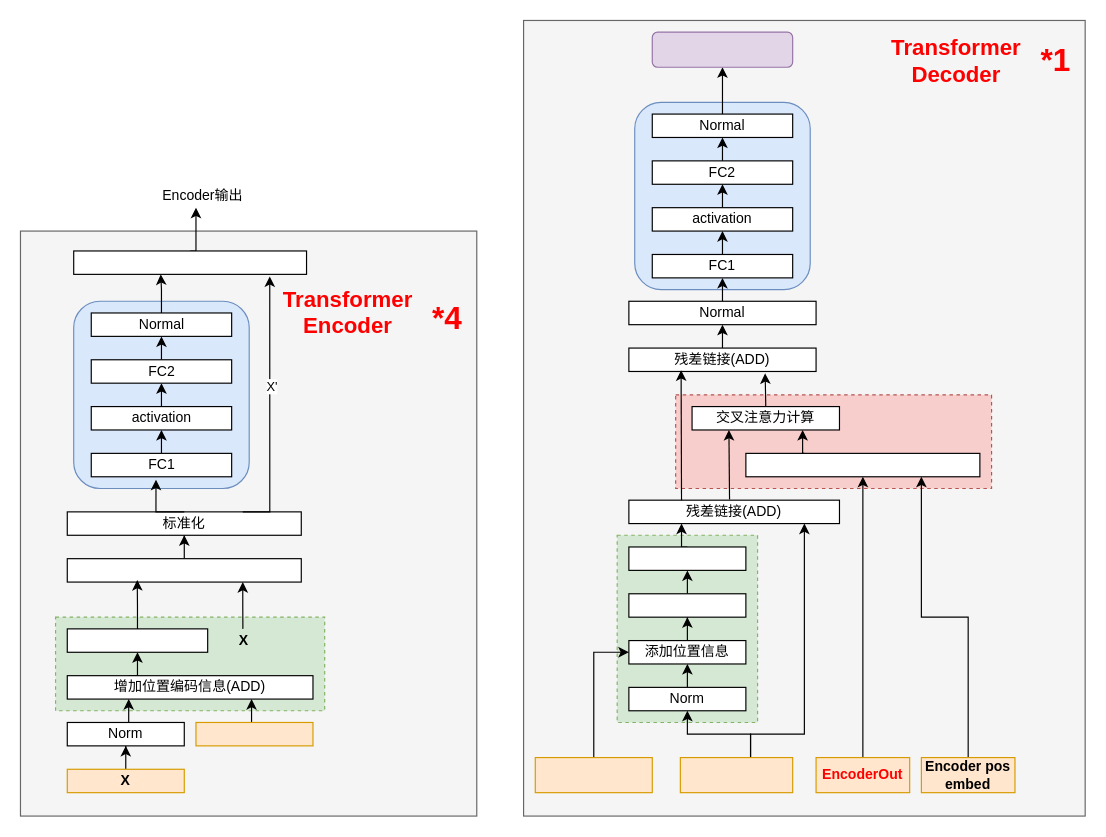
Some shapes in this 1106 by 837 pixel diagram are drawn without their labels. Here are the shapes that lost their labels. From the top down, the centre of each, then its label:
At [722,49]: "目标位置关节".
At [190,262]: "残差链接+Normal".
At [862,464]: "添加位置信息(encoder_out + pos)".
At [183,570]: "残差链接".
At [687,558]: "Dropout".
At [687,605]: "Self Attention".
At [137,640]: "自注意力(q=k=v=x)".
At [254,733]: "Pos embed".
At [593,774]: "Decoder pos embed".
At [736,774]: "X(Position Embedding)".
